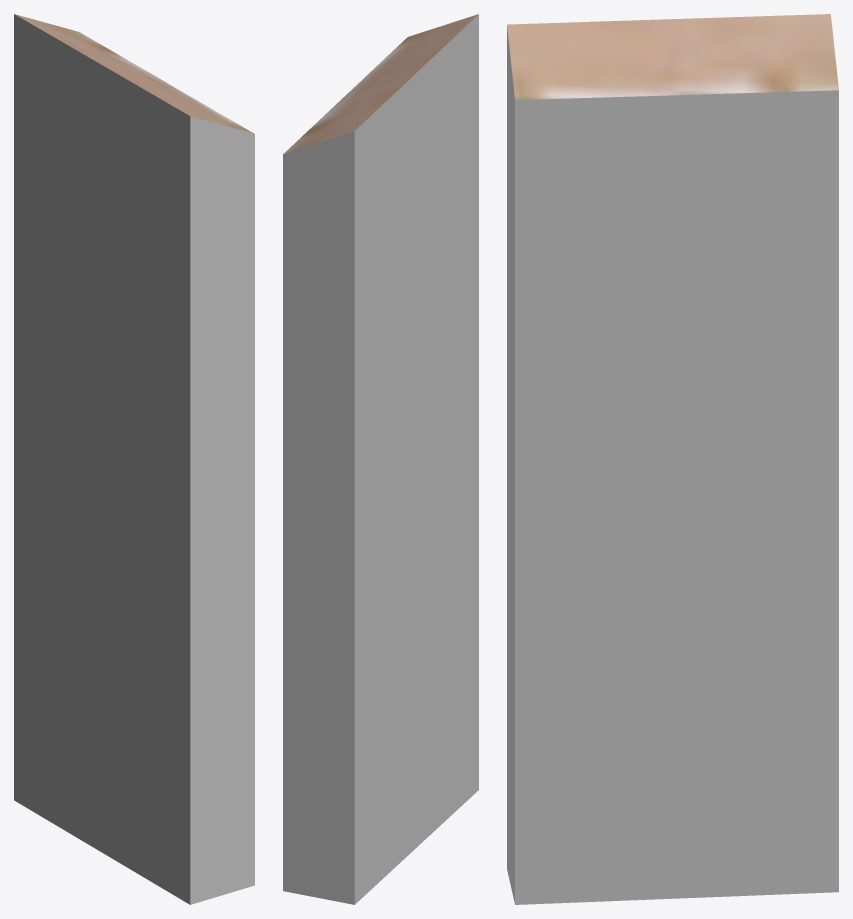
The model's file is DEBW_0010007TI08.gltf.
3 renders of one model, left to right at view 1: azimuth 30°, elevation 25°; view 2: azimuth 150°, elevation 25°; view 3: azimuth 270°, elevation 25°, orthographic. The views are drawn at different scales.
Visible parts, largest first — view 1: Z_UP; view 2: Z_UP; view 3: Z_UP.
Part boxes in pixels (box(x1,y1,x2,y2)): Z_UP: box(14, 14, 254, 904); Z_UP: box(283, 14, 478, 904); Z_UP: box(507, 14, 838, 904).
Bounding box in the file's own units: 1.57 × 12.66 × 4.51.
Materials: 2 (1 with a texture image).
